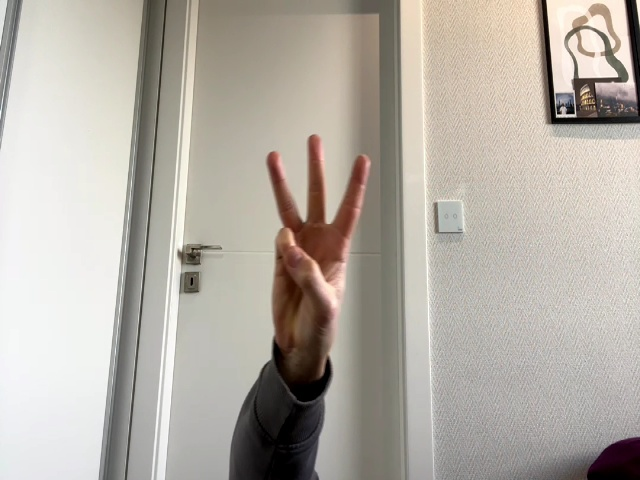W: (267, 135, 371, 356)
